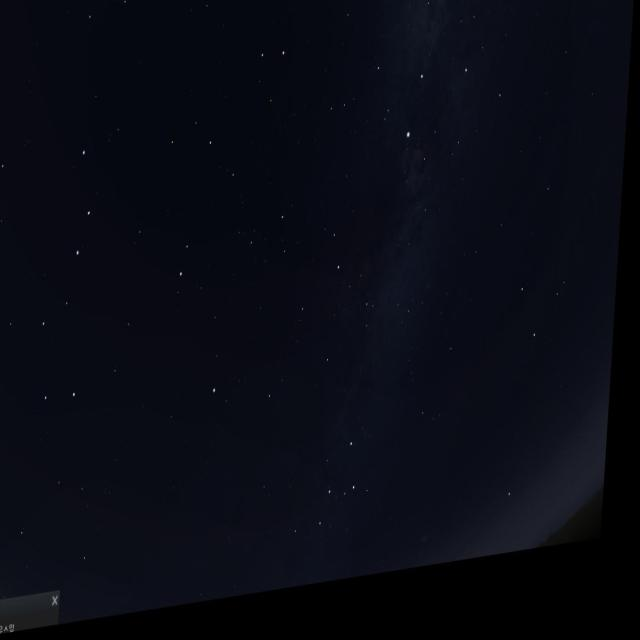cassiopeia: (284, 446, 386, 562)
cygnus: (366, 0, 481, 178)
ursa_major: (22, 147, 110, 421)
